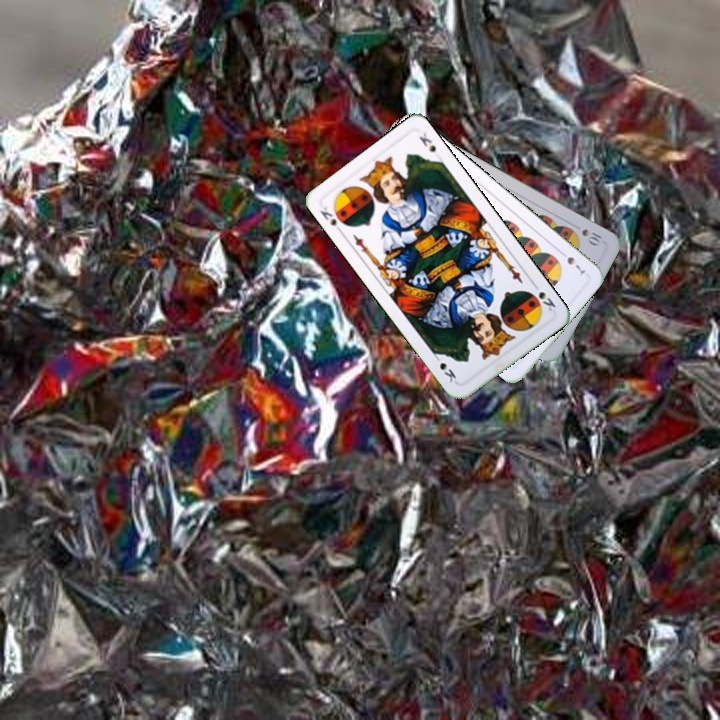S10: (578, 225, 606, 248)
S7: (556, 247, 588, 276)
SK: (528, 278, 558, 314), (316, 202, 346, 237)
